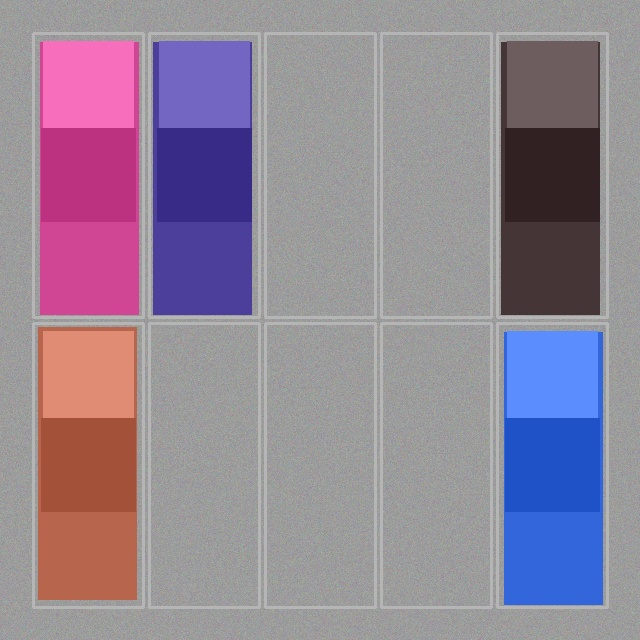space-empty: (267, 35, 373, 315), (383, 35, 489, 315), (151, 325, 257, 605), (267, 325, 373, 605), (383, 325, 489, 605)
space-occupied: (35, 35, 141, 315), (151, 35, 257, 315), (499, 35, 605, 315), (35, 325, 141, 605), (499, 325, 605, 605)
